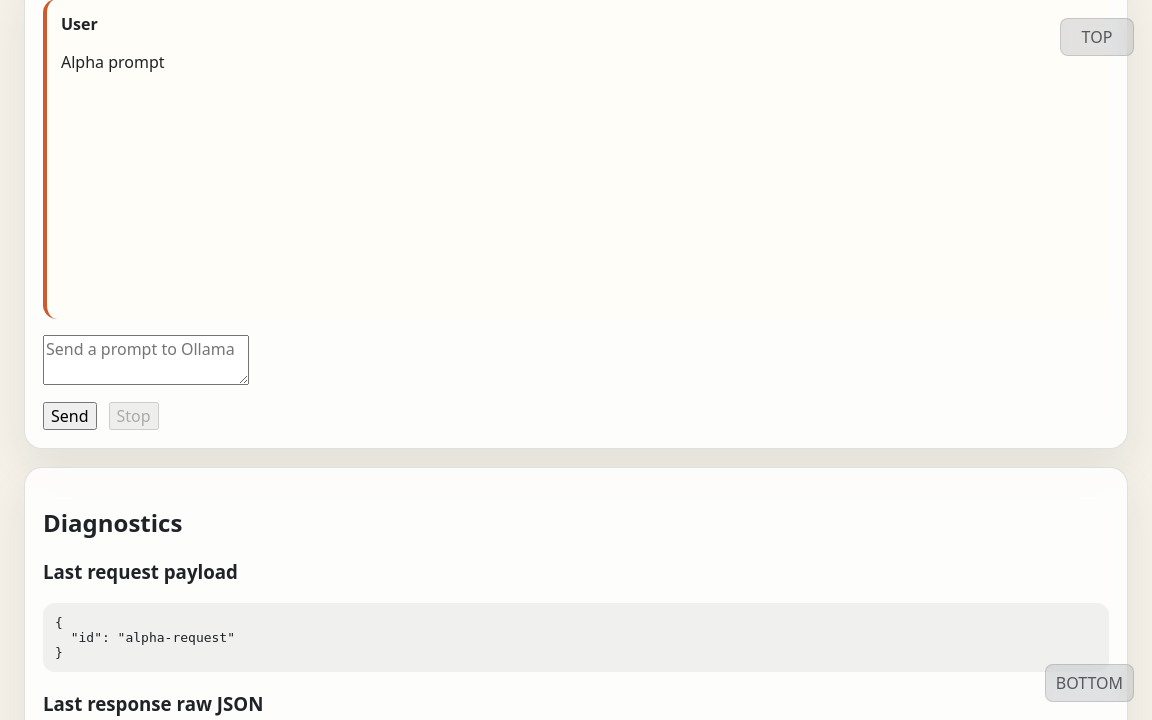
Test case: App › disables send and ignores a second submit while a request is pending
(page scrolled)
Type "Hello from the test" into the text box labelled "prompt". click: (146, 360)
box: [43,335,249,385]
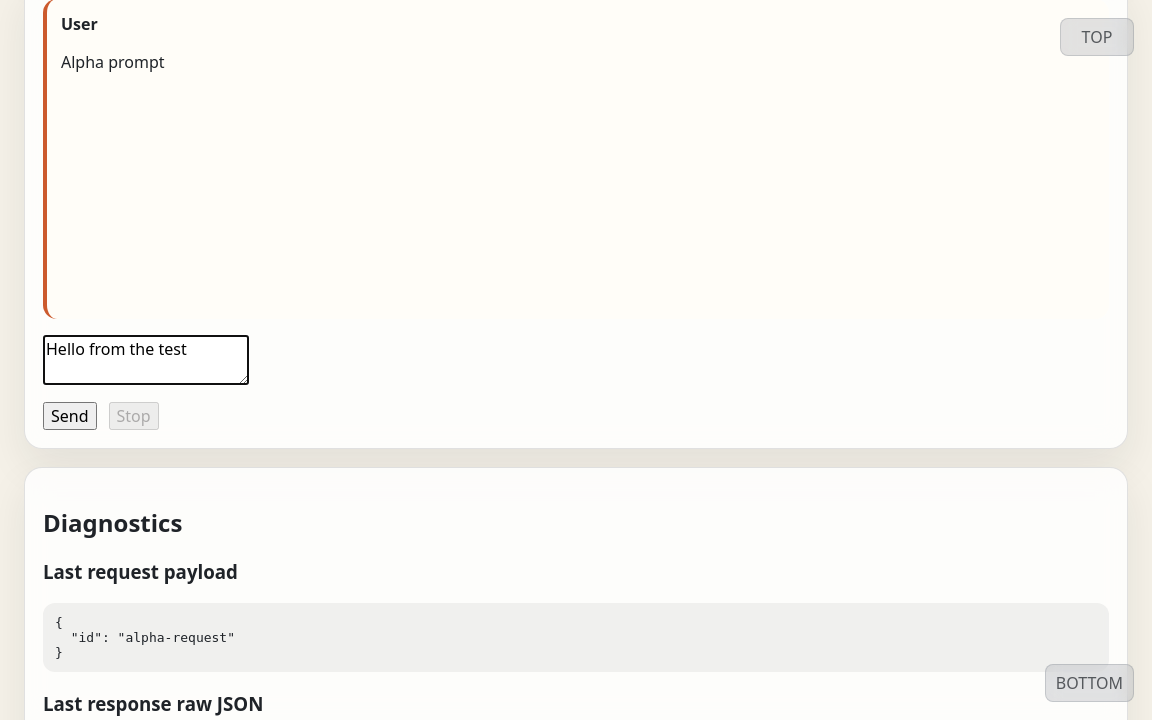
Click the button "Send". click: (70, 416)
box: [43,402,96,430]
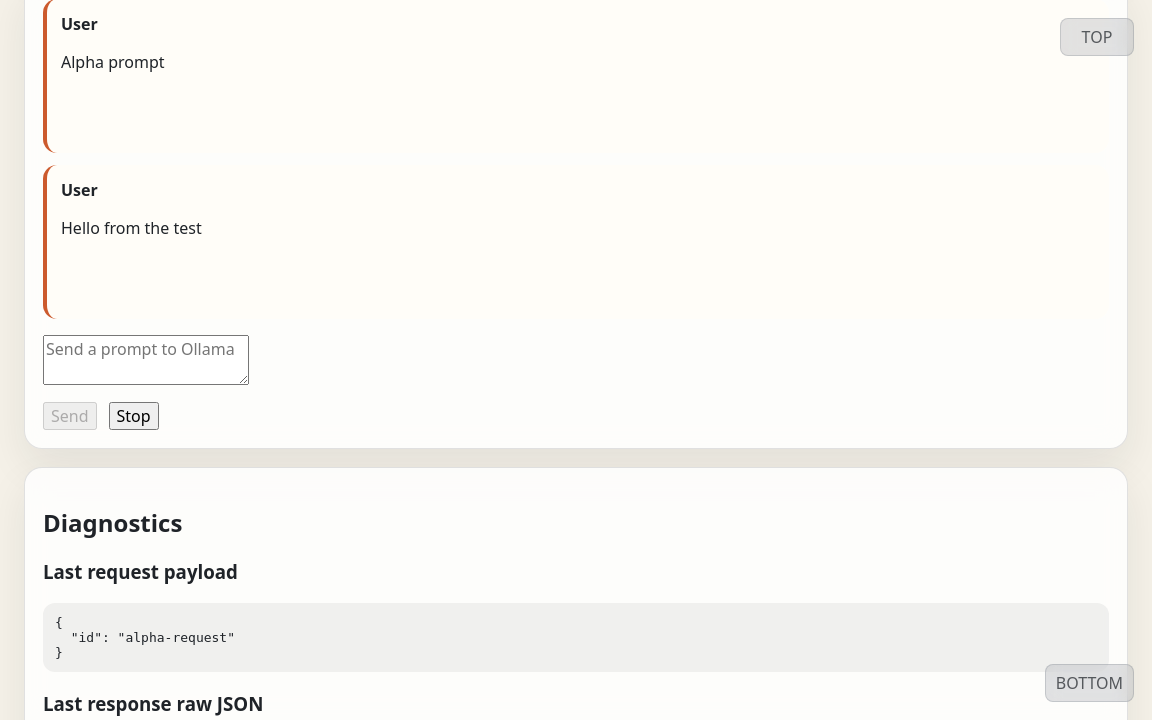
Expected: the button "Send" is disabled
Expected: the text box labelled "prompt" is empty, [43,335,249,385]
Click the button "Send". click: (70, 416)
box: [43,402,96,430]
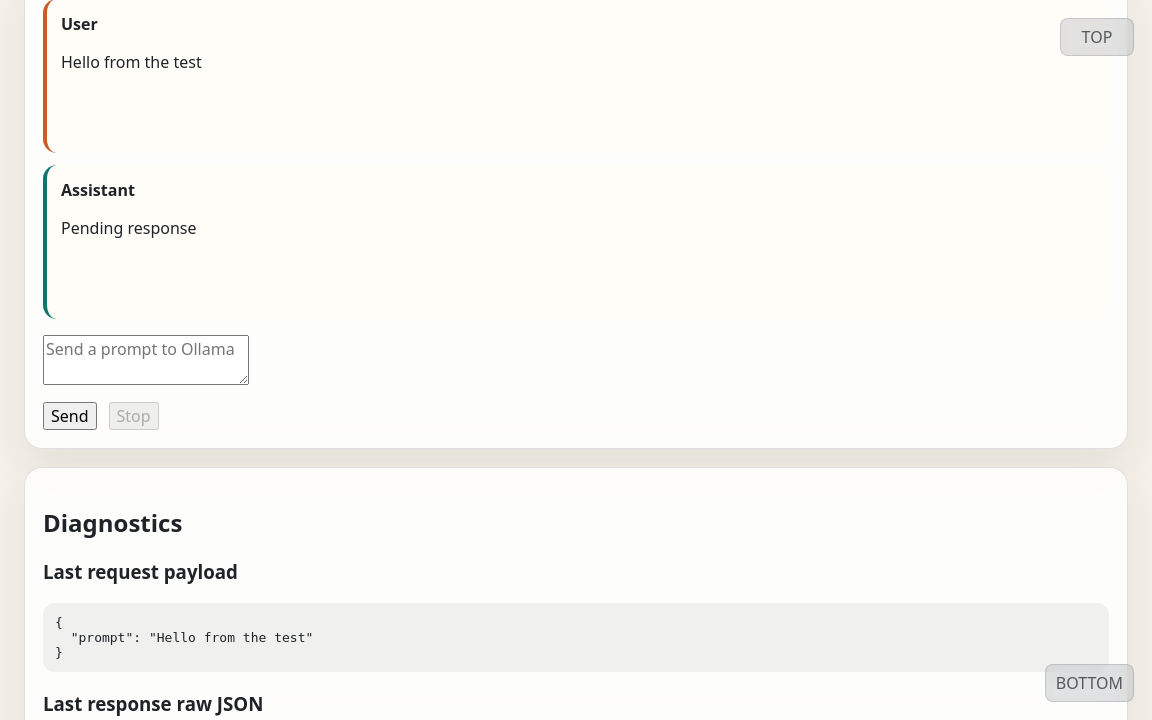
Expected: the text "Pending response" is shown, [61,217,196,239]
